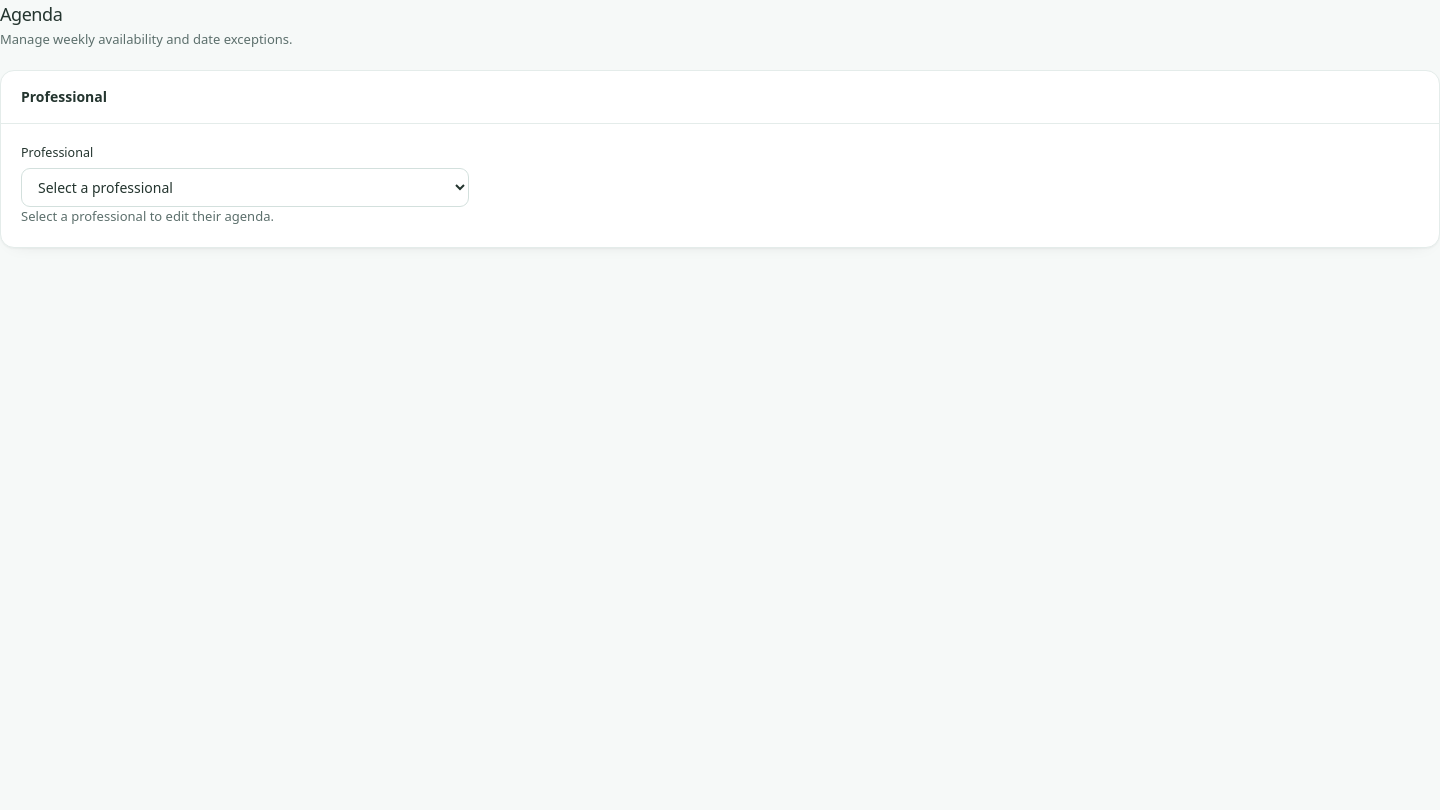
Test case: AgendaPage › rejects a block whose end is not after its start without calling the API
Select "Laura Gómez" in the dropdown labelled "Professional" at coordinates (245, 188), box [21, 168, 469, 207]
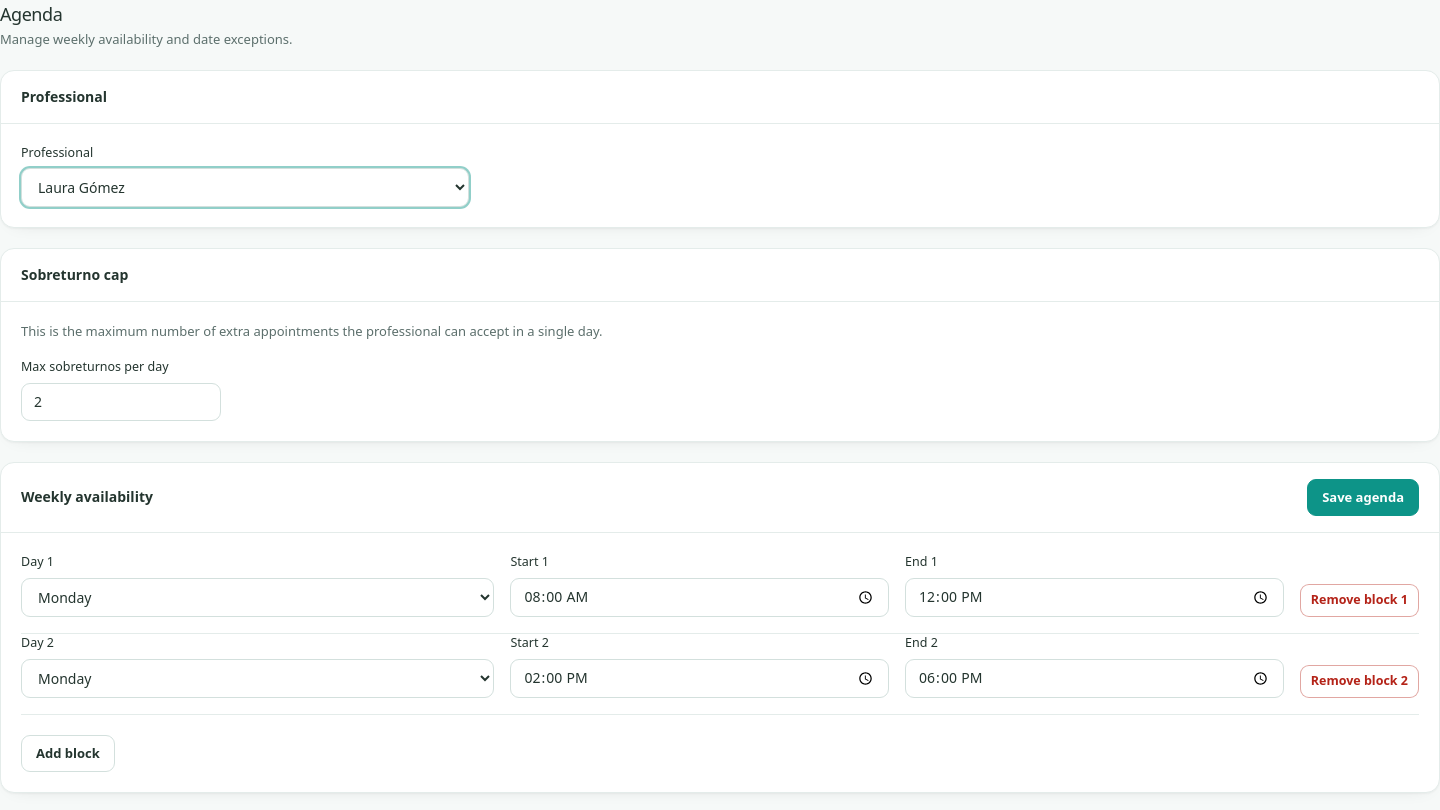
Replace the text in the time field labelled "Start 1" with "10:00" at coordinates (700, 597), box [510, 578, 889, 617]
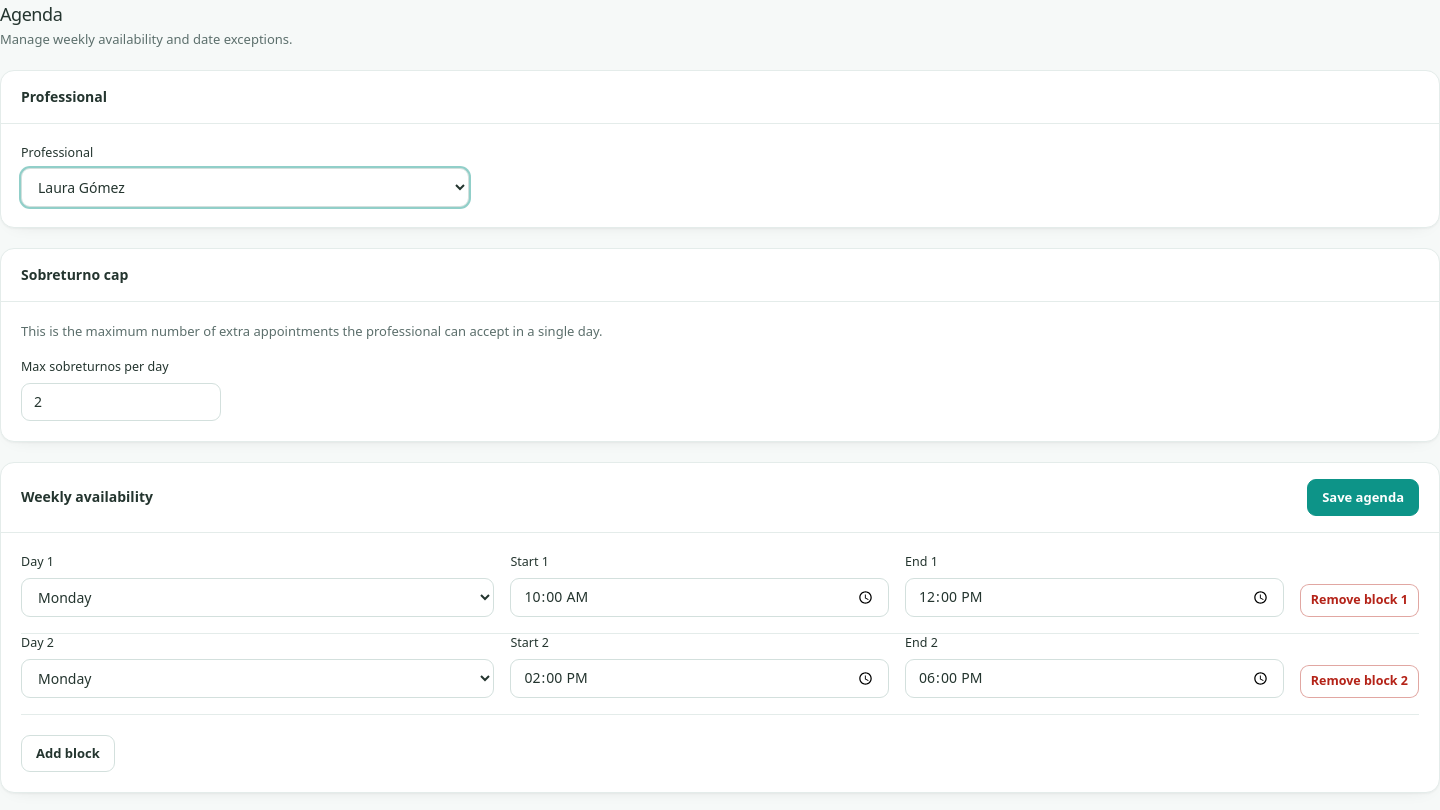
Replace the text in the time field labelled "End 1" with "09:00" at coordinates (1094, 597), box [905, 578, 1284, 617]
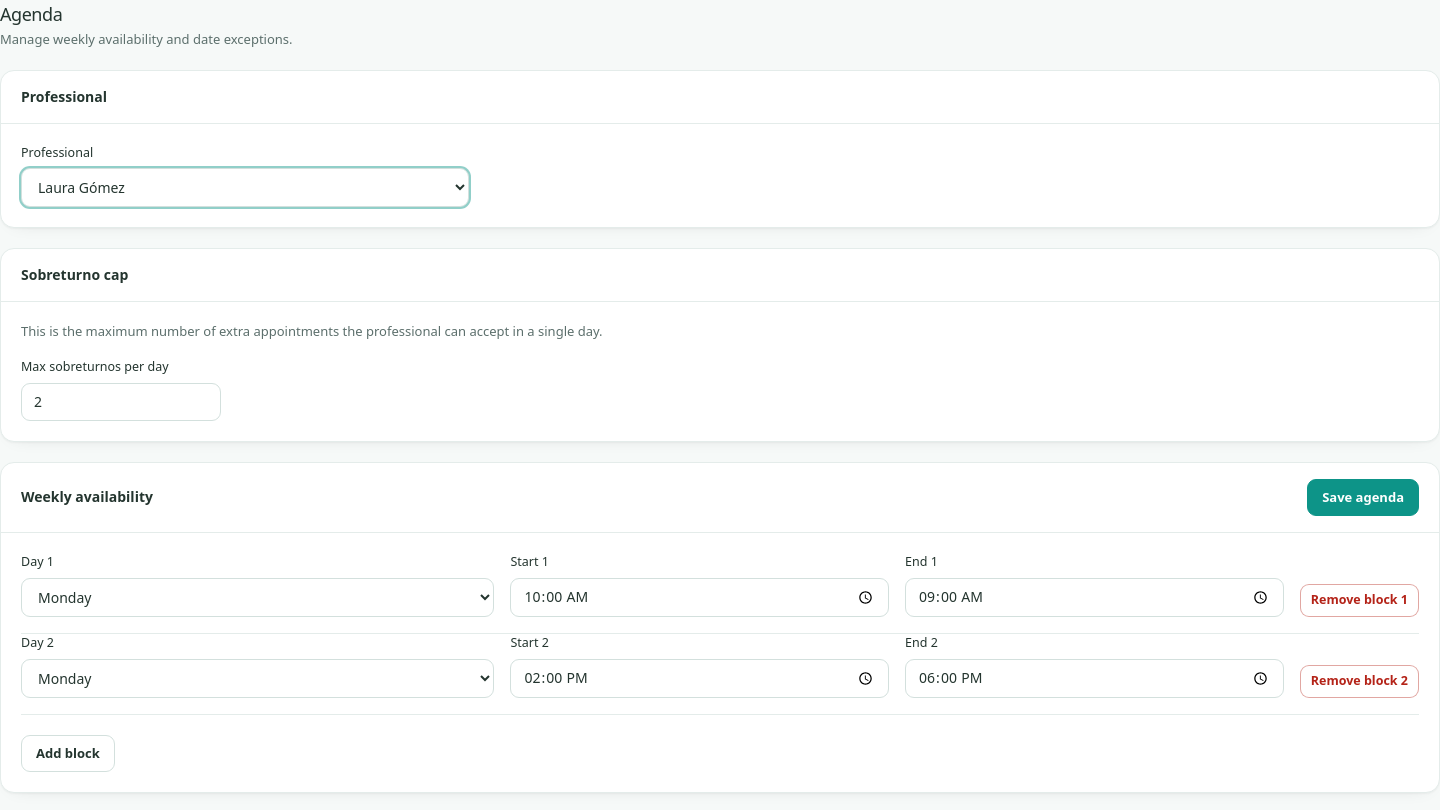
Click the button "Save agenda".
click(1363, 497)  # box [1307, 478, 1419, 516]
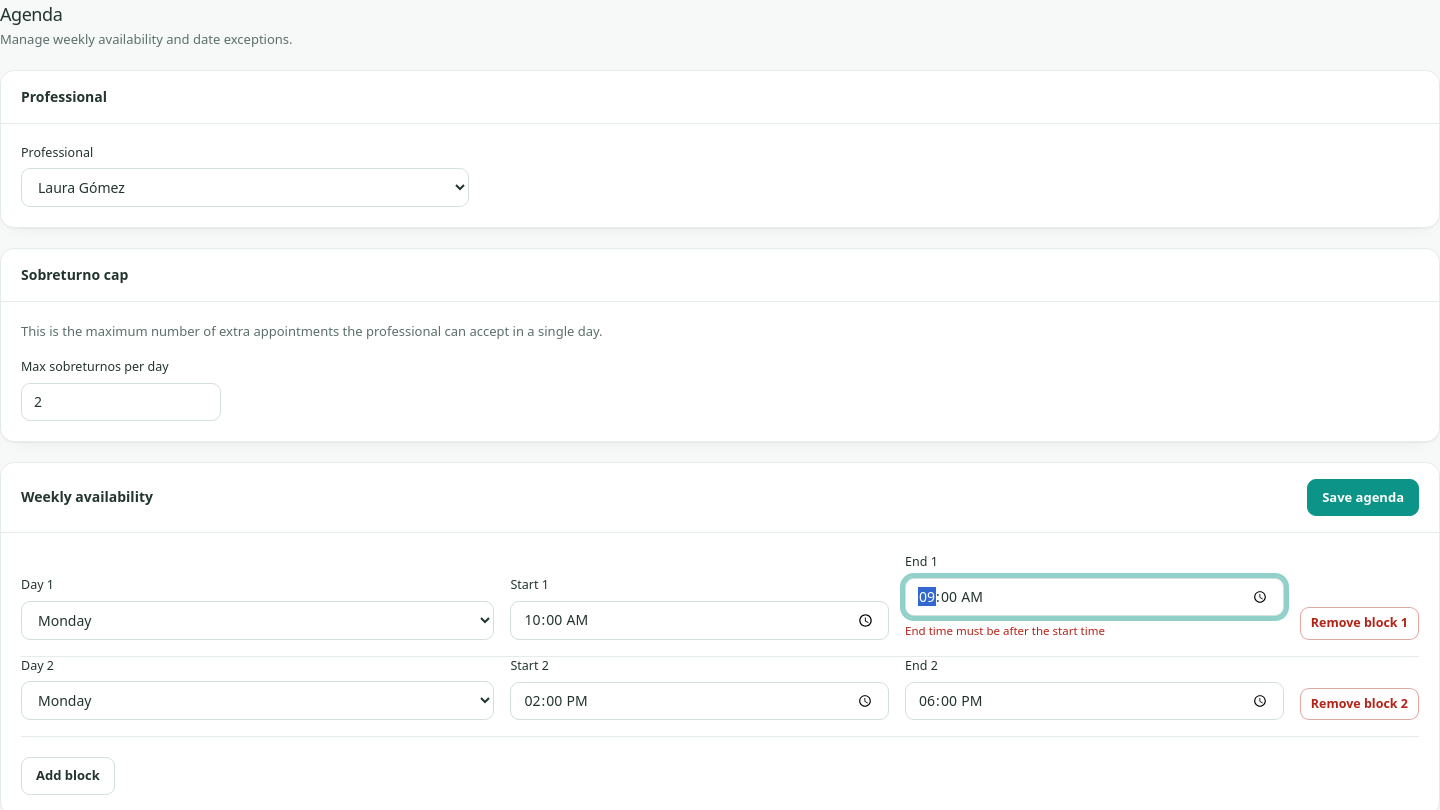
Check: the text "End time must be after the start time" is shown, box [905, 623, 1105, 638]
